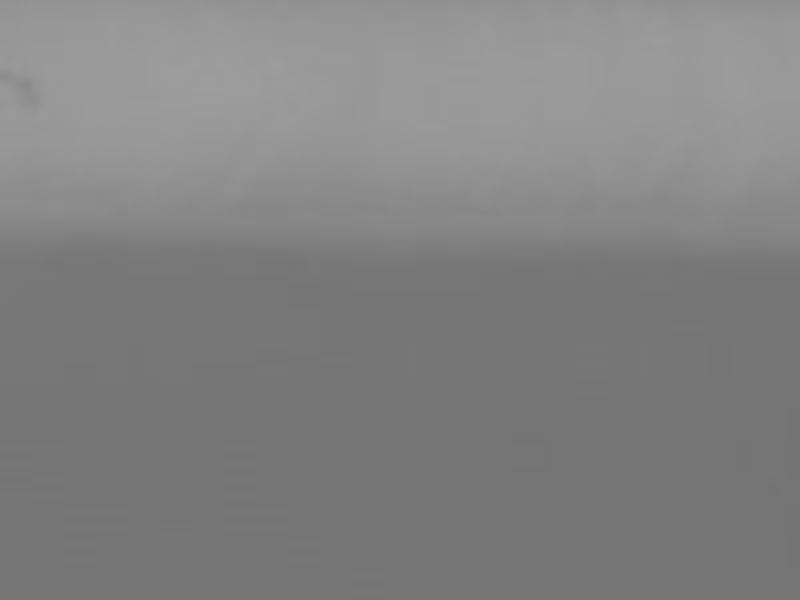defect: (16, 96, 38, 116), (17, 81, 33, 97), (1, 68, 9, 87)
